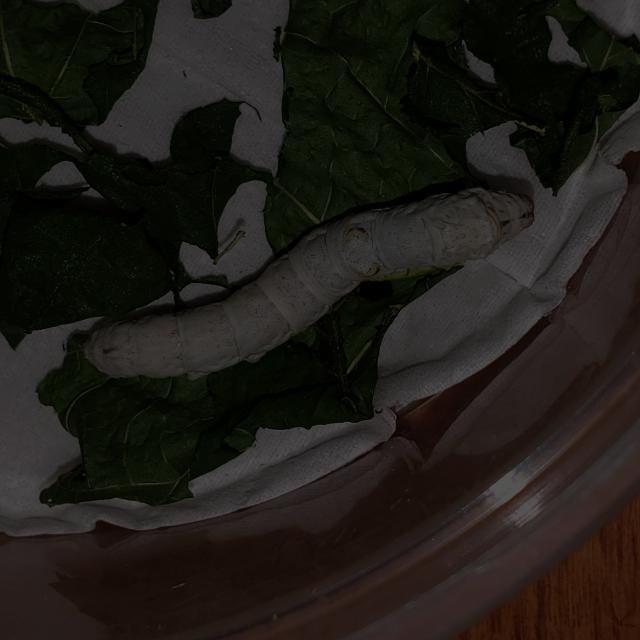Healthy: (70, 166, 562, 407)
